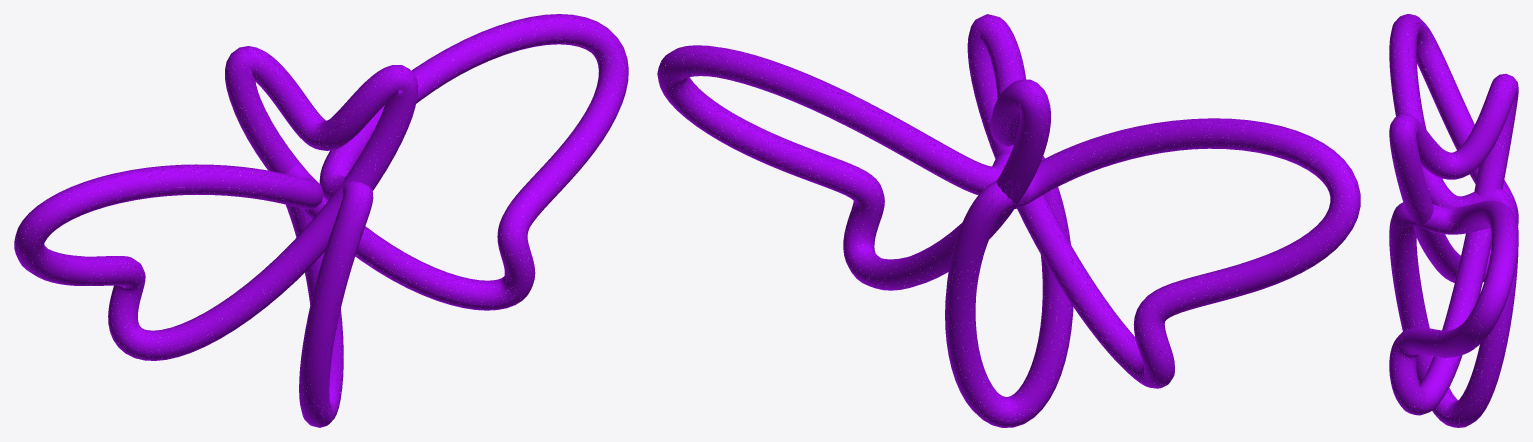
The model's file is butterfly2.glb.
3 views of the same model, side by side, from view 1: azimuth 30°, elevation 25°; view 2: azimuth 150°, elevation 25°; view 3: azimuth 270°, elevation 25° (orthographic). The views are drawn at different scales.
Parts seen in each view (by area): view 1: MyParametricCurve; view 2: MyParametricCurve; view 3: MyParametricCurve.
Part boxes in pixels (left/top/right/bottom): MyParametricCurve: left=14, top=14, right=628, bottom=427; MyParametricCurve: left=657, top=14, right=1360, bottom=427; MyParametricCurve: left=1389, top=14, right=1518, bottom=427.
Bounding box in the file's own units: 9.77 × 5.33 × 1.9.
